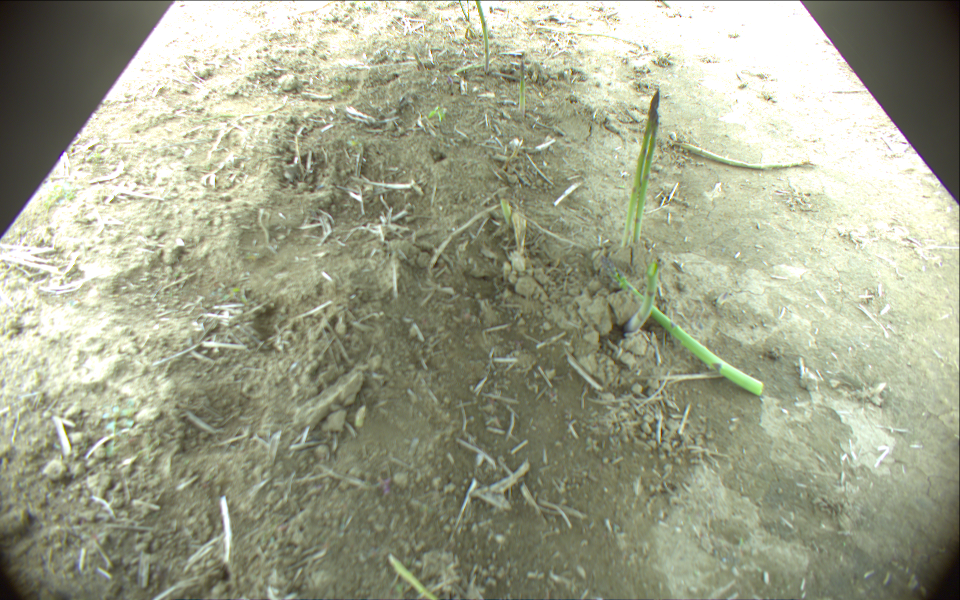aspa: (605, 255, 765, 395), (619, 85, 659, 250), (671, 138, 813, 171), (634, 113, 659, 242), (625, 258, 661, 335), (388, 555, 438, 600), (475, 1, 490, 72), (500, 197, 515, 225), (518, 61, 524, 113), (459, 1, 469, 21)
